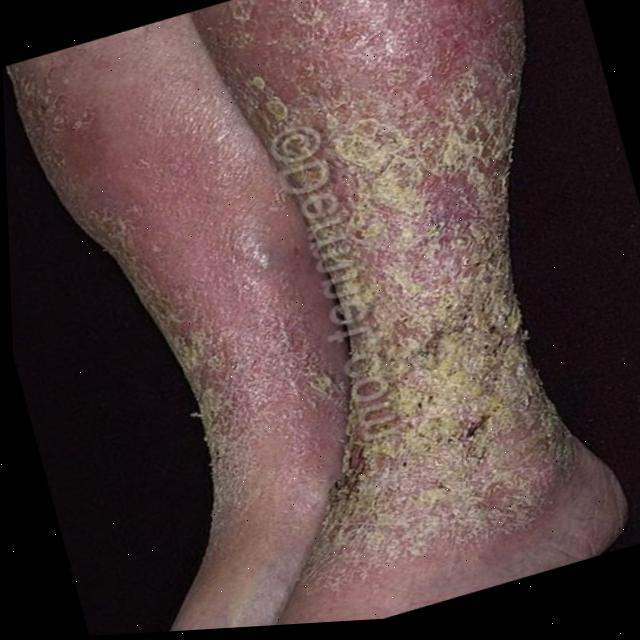Eczema: (236, 31, 614, 569), (110, 155, 282, 531)
